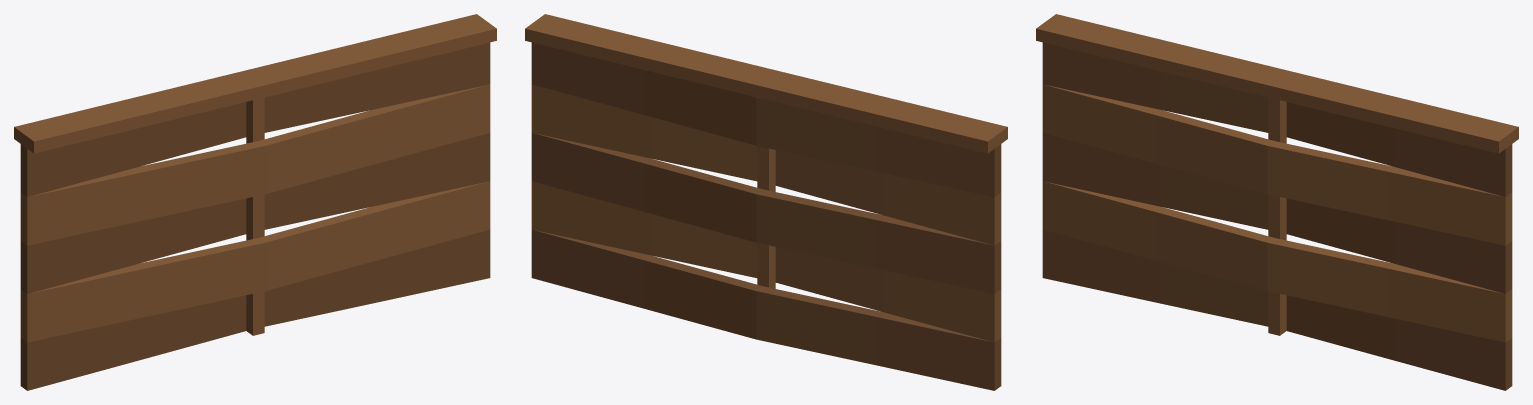
Rendered from Fence_13_Light_Brown.fbx.
The picture shows the model from 3 angles, left to right: view 1: azimuth 30°, elevation 25°; view 2: azimuth 150°, elevation 25°; view 3: azimuth 330°, elevation 25°; orthographic projection.
Parts seen in each view (by area): view 1: Fence_13_Light_Brown; view 2: Fence_13_Light_Brown; view 3: Fence_13_Light_Brown.
Boxes of the visible parts, x1,y1,x2,y2 form: Fence_13_Light_Brown: (14, 14, 496, 390); Fence_13_Light_Brown: (525, 14, 1007, 390); Fence_13_Light_Brown: (1036, 14, 1518, 390).
Size of the model in its own units: 200 by 105 by 15.28.
